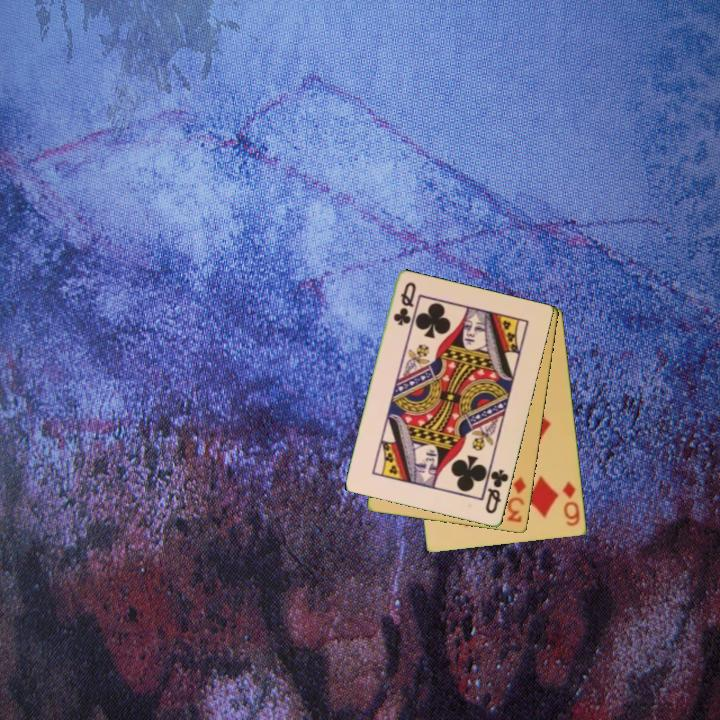3d: (504, 474, 530, 525)
6d: (559, 478, 583, 529)
Qc: (480, 462, 512, 517), (390, 279, 419, 329)
